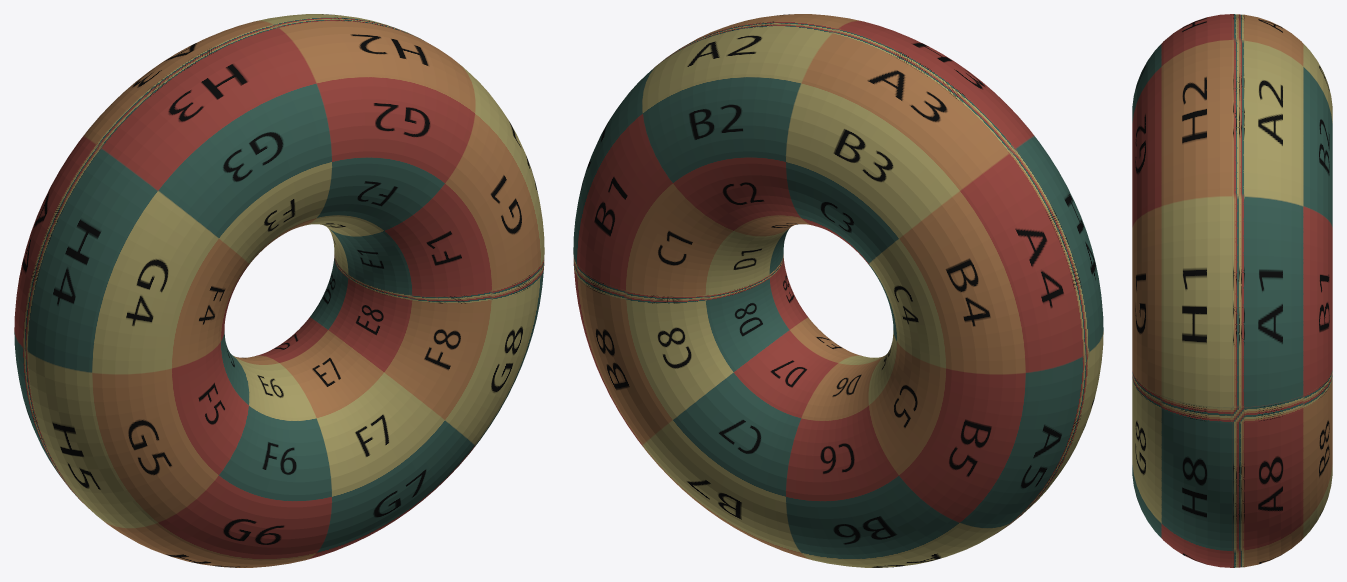
The model's file is texture_torus_R2_r7.glb.
3 renders of one model, left to right at view 1: azimuth 30°, elevation 25°; view 2: azimuth 150°, elevation 25°; view 3: azimuth 270°, elevation 25°, orthographic. The views are drawn at different scales.
Parts seen in each view (by area): view 1: world; view 2: world; view 3: world.
Boxes of the visible parts, x1,y1,x2,y2 form: world: (14,14,544,567); world: (573,14,1103,567); world: (1132,14,1332,567).
Bounding box in the file's own units: 22.67 × 22.67 × 8.21.
1 material, 1 textured.
